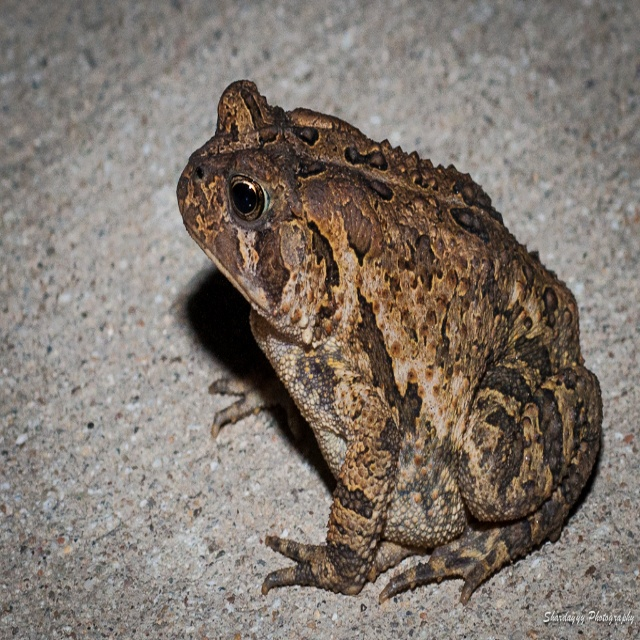Frog: (175, 80, 604, 603)
